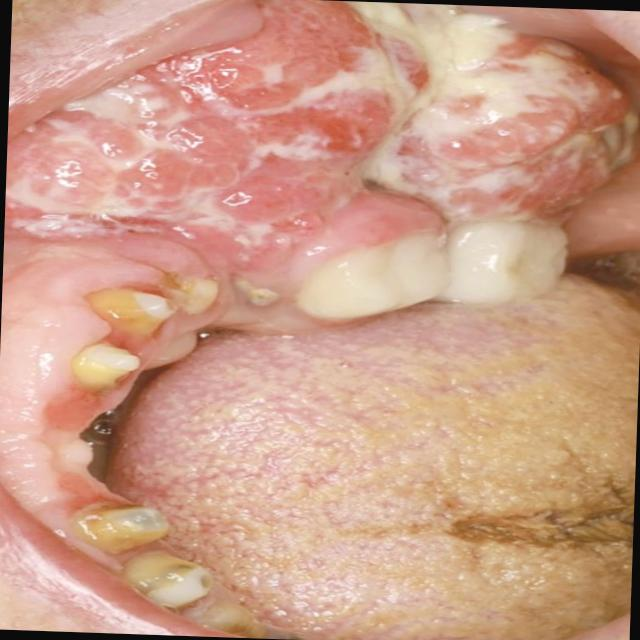Cancer: (3, 0, 386, 248), (395, 32, 629, 225), (368, 460, 635, 577)
